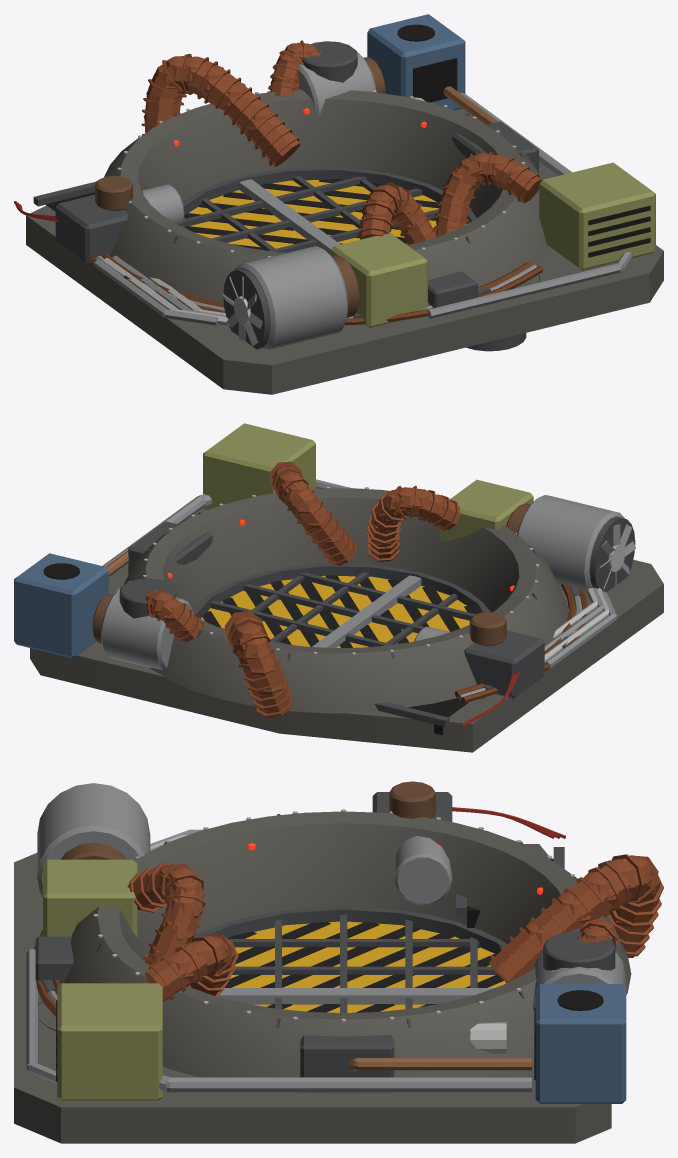
Rendered from rocket-silo.glb.
The picture shows the model from 3 angles, top to bottom: view 1: azimuth 30°, elevation 25°; view 2: azimuth 150°, elevation 25°; view 3: azimuth 270°, elevation 25°; orthographic projection. The views are drawn at different scales.
Parts seen in each view (by area): view 1: body, anim_door_silo_e, anim_door_silo_w, anim_fan_silo, anim_lift_silo; view 2: body, anim_door_silo_e, anim_door_silo_w, anim_fan_silo; view 3: body, anim_door_silo_w, anim_door_silo_e.
Boxes of the visible parts, x1,y1,x2,y2 form: body: (14, 14, 663, 394); anim_door_silo_e: (239, 176, 466, 254); anim_door_silo_w: (181, 190, 317, 252); anim_fan_silo: (222, 276, 262, 345); anim_lift_silo: (466, 333, 526, 351); body: (14, 423, 663, 752); anim_door_silo_e: (201, 572, 421, 647); anim_door_silo_w: (336, 585, 478, 647); anim_fan_silo: (597, 524, 635, 590); body: (14, 781, 663, 1143); anim_door_silo_w: (224, 914, 505, 987); anim_door_silo_e: (218, 988, 494, 1012).
Bounding box in the file's own units: 8.92 × 2.67 × 8.97.
